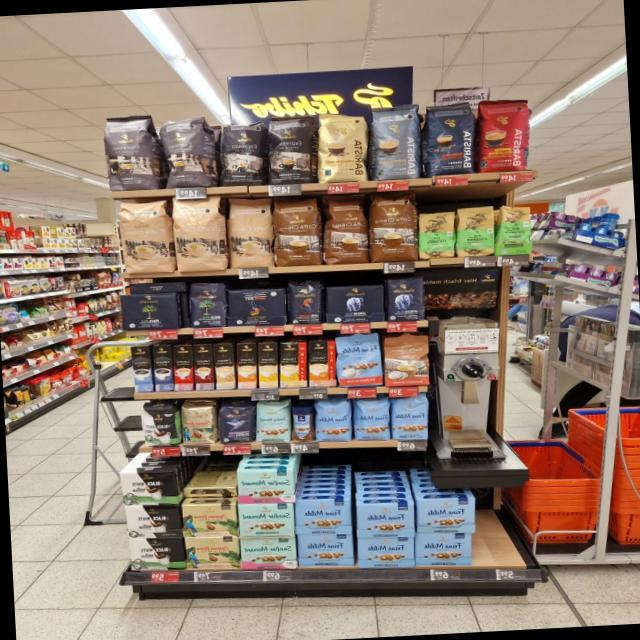AB Bohne: (384, 276, 426, 323)
AB Gemahlen: (324, 284, 386, 324)
Athiopien Bohne: (492, 204, 535, 256)
Athiopien Gemahlen: (454, 206, 496, 256), (418, 210, 456, 260)
BM Bohne: (186, 280, 229, 330)
BM Gemahlen: (120, 292, 180, 333)
BW Bohne: (138, 403, 178, 448)
BW Gemahlen: (120, 469, 178, 506), (126, 504, 182, 540), (129, 538, 186, 572)
Barista CB: (316, 111, 370, 183)
Barista CC: (368, 103, 422, 180)
Barista Espresso: (422, 100, 478, 177)
Barista Kolumbien: (473, 96, 535, 174)
C Fino Bohne: (218, 404, 255, 444)
CC Mild: (172, 196, 226, 273), (118, 199, 170, 275), (226, 196, 275, 270)
CC Vollmundig: (382, 332, 431, 388)
CC Vollmundig 36 Pads: (366, 191, 420, 263), (272, 196, 323, 266), (322, 195, 370, 265)
Colombia BB Bohne: (180, 406, 217, 446)
Colombia BB Gemahlen: (181, 503, 238, 538), (184, 536, 242, 570)
Espresso M Art: (102, 114, 156, 192), (158, 114, 212, 190)
Espresso S Art: (264, 114, 320, 185), (215, 121, 268, 187)
FM 36 Pads: (334, 332, 382, 388)
FM Bohne: (389, 394, 431, 442), (352, 396, 391, 442), (314, 401, 352, 444)
FM Gemahlen: (416, 496, 478, 534), (356, 501, 416, 540), (414, 532, 472, 568), (296, 534, 354, 570), (294, 501, 352, 536), (357, 536, 415, 570)
FM Instant: (290, 402, 316, 442)
LG Bohne: (288, 279, 324, 326)
SM Bohne: (253, 401, 292, 444)
SM Gemahlen: (236, 468, 295, 504), (238, 502, 296, 538), (240, 536, 296, 572)
Simo CCMild: (278, 342, 308, 388)
Simo CCMild bigpack: (258, 342, 280, 388)
Simo CCVollmundig: (308, 340, 338, 387)
Simo CCVollmundig bigpack: (236, 343, 258, 389)
Simo Decaff: (213, 343, 234, 389)
Simo Es Brazil: (173, 344, 194, 390)
Simo Es Caramel: (193, 344, 215, 391)
Simo Es Kraft: (152, 345, 174, 392)
Simo Es Vanilla: (130, 347, 152, 392)
